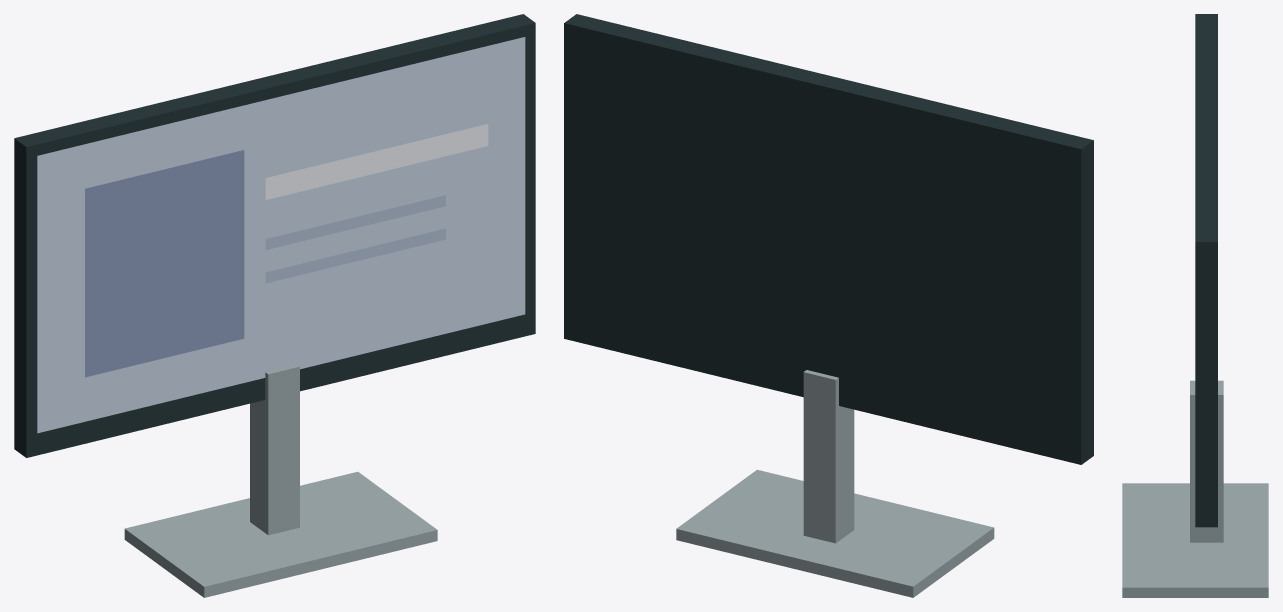
Rendered from demo-monitor.glb.
3 renders of one model, left to right at view 1: azimuth 30°, elevation 25°; view 2: azimuth 150°, elevation 25°; view 3: azimuth 270°, elevation 25°, orthographic. The views are drawn at different scales.
Visible parts, largest first — view 1: 示例显示器; view 2: 示例显示器; view 3: 示例显示器.
Boxes of the visible parts, x1,y1,x2,y2 form: 示例显示器: (14,14,535,597); 示例显示器: (564,14,1093,597); 示例显示器: (1122,14,1268,597).
Bounding box in the file's own units: 48 × 41 × 13.
